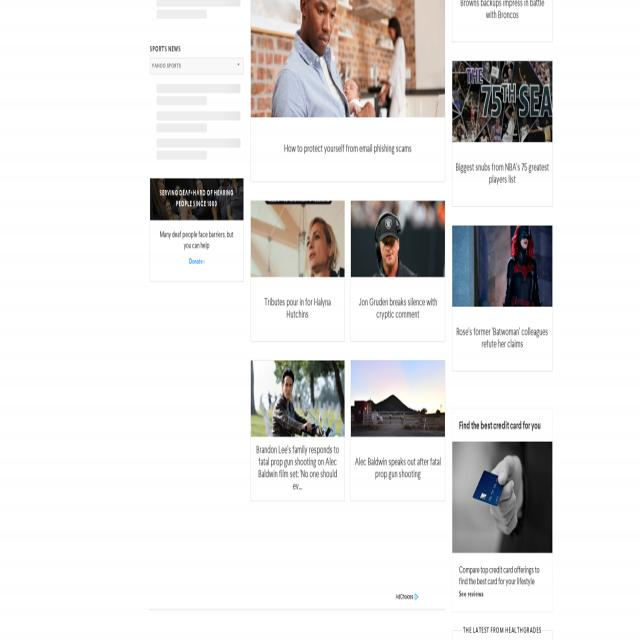button: (251, 0, 445, 182), (452, 442, 552, 610), (452, 226, 552, 372), (452, 61, 552, 206), (351, 360, 445, 502), (251, 201, 344, 343), (351, 201, 445, 341), (251, 360, 344, 501), (451, 0, 552, 42), (150, 179, 243, 220)
field: (150, 58, 243, 74)
